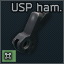HK USP hammer: (0, 0, 64, 64)
